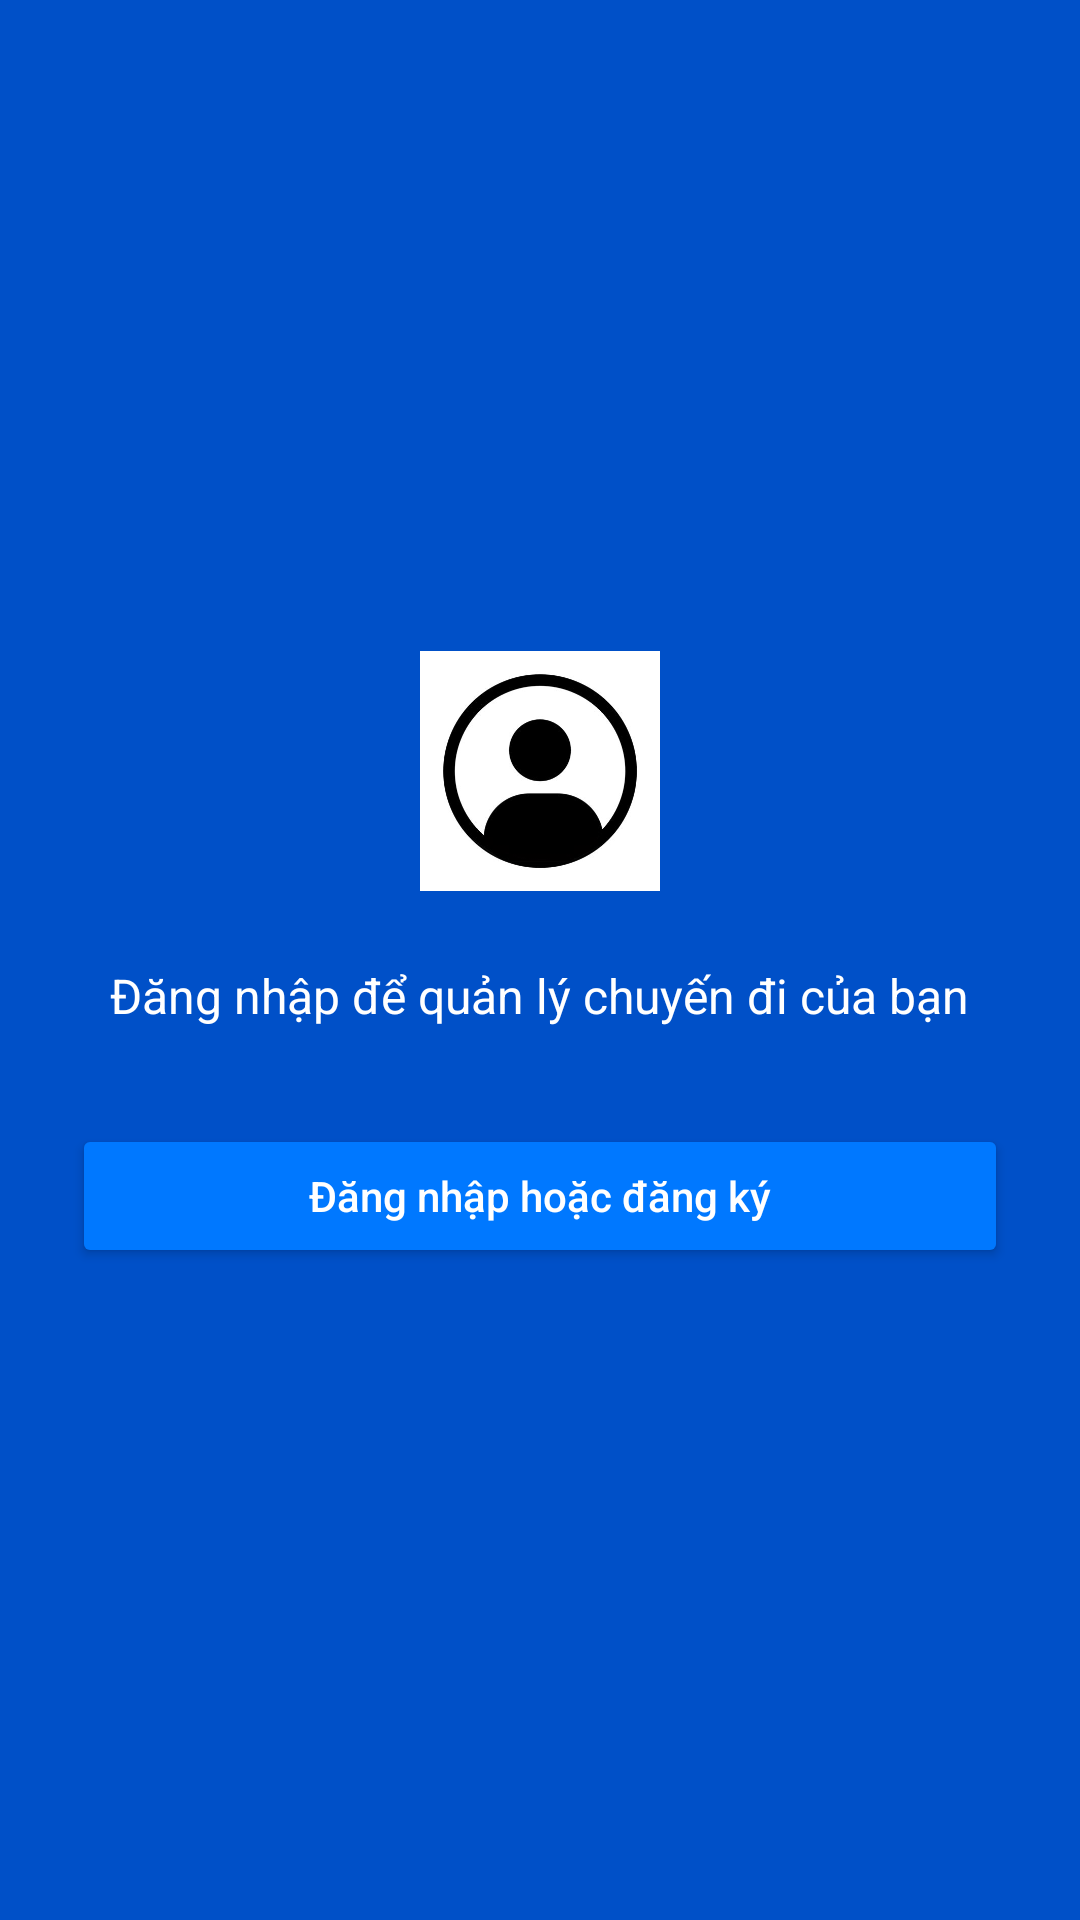

Where icons sit on this 1080*1920 app screen, as Rect(x1, y1, x2, y2):
acc: Rect(420, 651, 660, 891)
